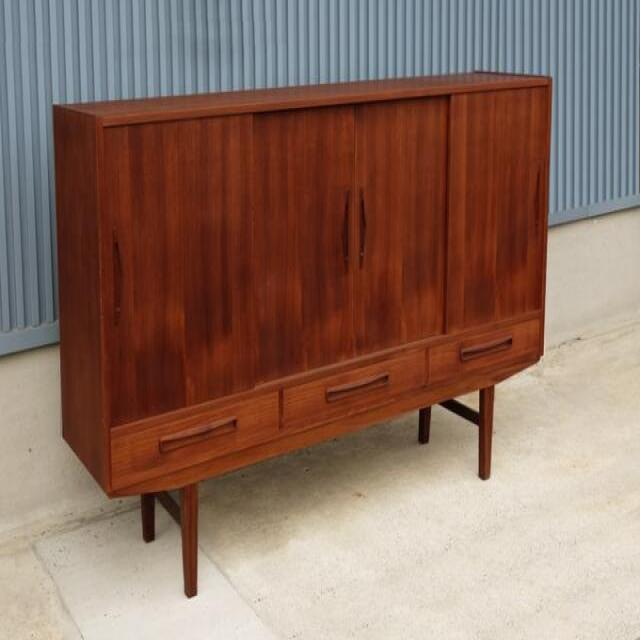vintage shelf: (47, 62, 550, 598)
